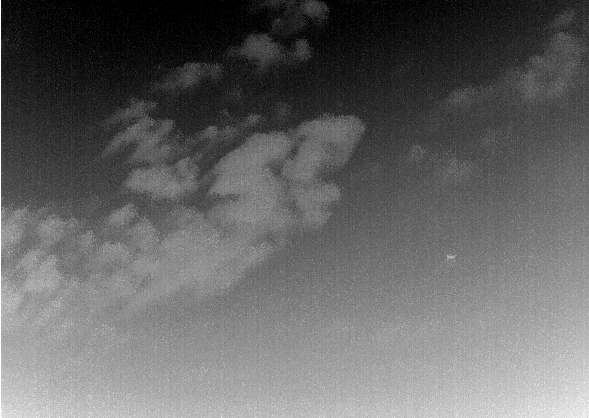dim target: (446, 254, 456, 259)
